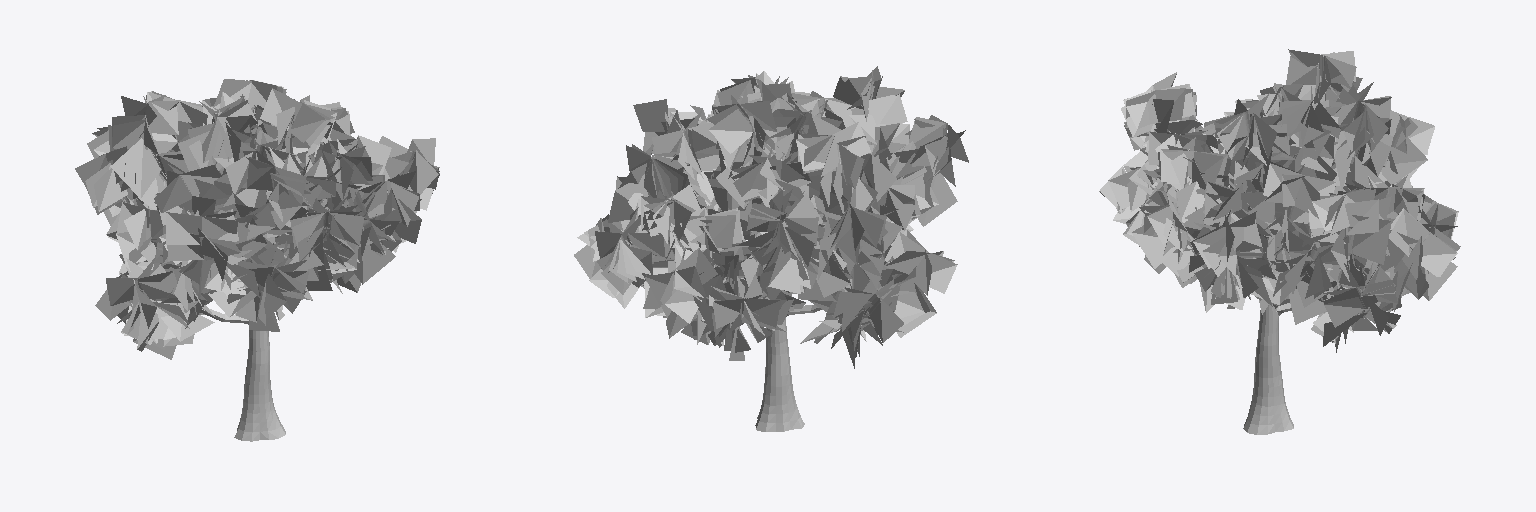
The model's file is arbol.obj.
3 views of the same model, side by side, from view 1: azimuth 30°, elevation 25°; view 2: azimuth 150°, elevation 25°; view 3: azimuth 270°, elevation 25° (orthographic).
Visible parts, largest first — view 1: Sakura_Sakura_Mat_0, Sakura_Bark001_2K_JPG_Mat_0; view 2: Sakura_Sakura_Mat_0, Sakura_Bark001_2K_JPG_Mat_0; view 3: Sakura_Sakura_Mat_0, Sakura_Bark001_2K_JPG_Mat_0.
Boxes of the visible parts, x1=… form: Sakura_Sakura_Mat_0: x1=75, y1=79, x2=439, y2=359; Sakura_Bark001_2K_JPG_Mat_0: x1=126, y1=149, x2=409, y2=441; Sakura_Sakura_Mat_0: x1=574, y1=66, x2=968, y2=368; Sakura_Bark001_2K_JPG_Mat_0: x1=629, y1=94, x2=881, y2=431; Sakura_Sakura_Mat_0: x1=1099, y1=49, x2=1460, y2=352; Sakura_Bark001_2K_JPG_Mat_0: x1=1195, y1=78, x2=1364, y2=434.
Size of the model in its own units: 0.4036 by 0.4172 by 0.4016.